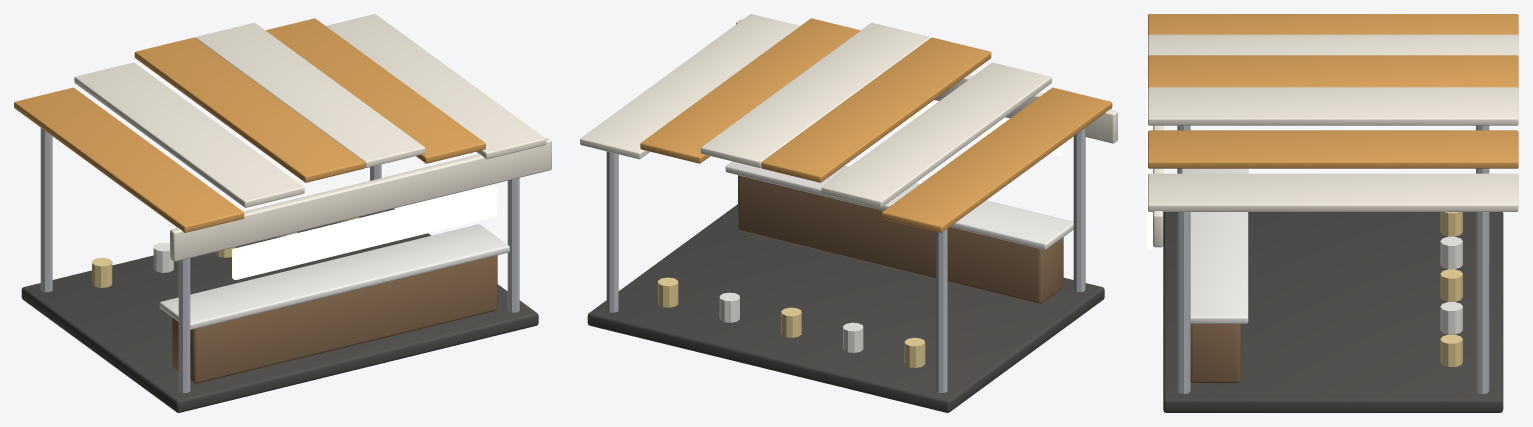
The model's file is tent_bar.glb.
3 views of the same model, side by side, from view 1: azimuth 30°, elevation 25°; view 2: azimuth 150°, elevation 25°; view 3: azimuth 270°, elevation 25° (orthographic). The views are drawn at different scales.
Visible parts, largest first — view 1: tent_bar; view 2: tent_bar; view 3: tent_bar.
Boxes of the visible parts, <box> form: tent_bar: <box>14,14,551,412</box>; tent_bar: <box>580,14,1117,412</box>; tent_bar: <box>1146,14,1518,412</box>.
Bounding box in the file's own units: 92 × 49.6 × 72.3.
